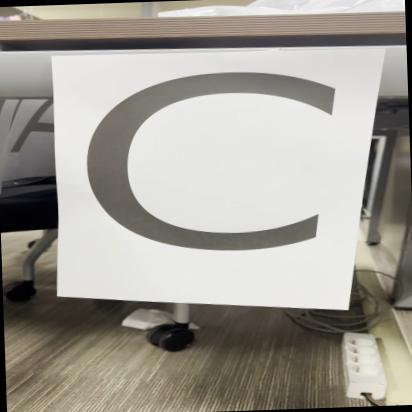seat: (56, 51, 352, 312)
